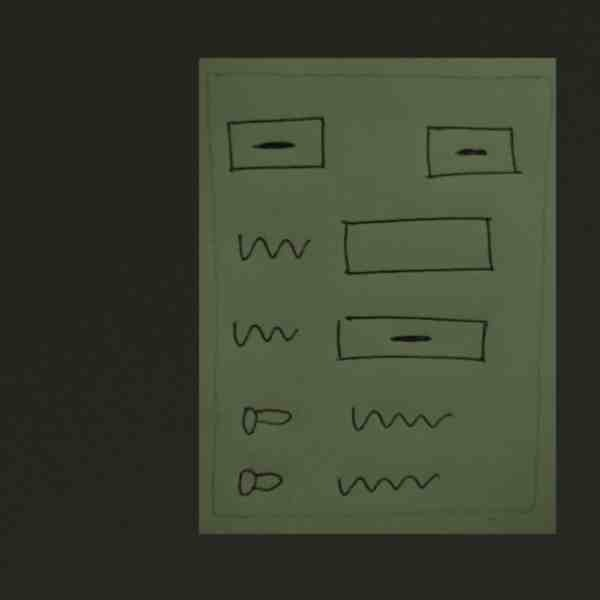button: (330, 311, 493, 369), (221, 113, 340, 184), (419, 120, 528, 186)
switch: (233, 399, 297, 442), (233, 462, 289, 501)
text: (341, 398, 459, 438), (328, 467, 444, 503), (232, 225, 314, 274), (228, 312, 305, 353)
text_input: (336, 212, 502, 281)
